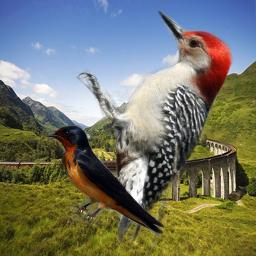Swallow: (44, 125, 165, 237)
Woodpecker: (70, 5, 239, 253)
